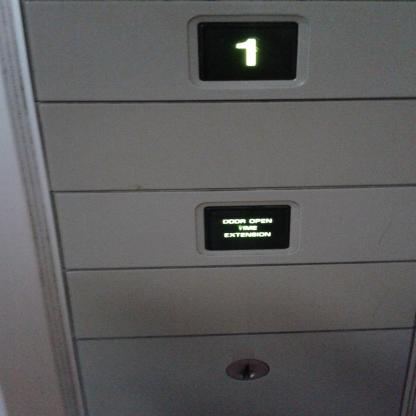1: (184, 11, 314, 89)
text: (192, 198, 302, 258)
